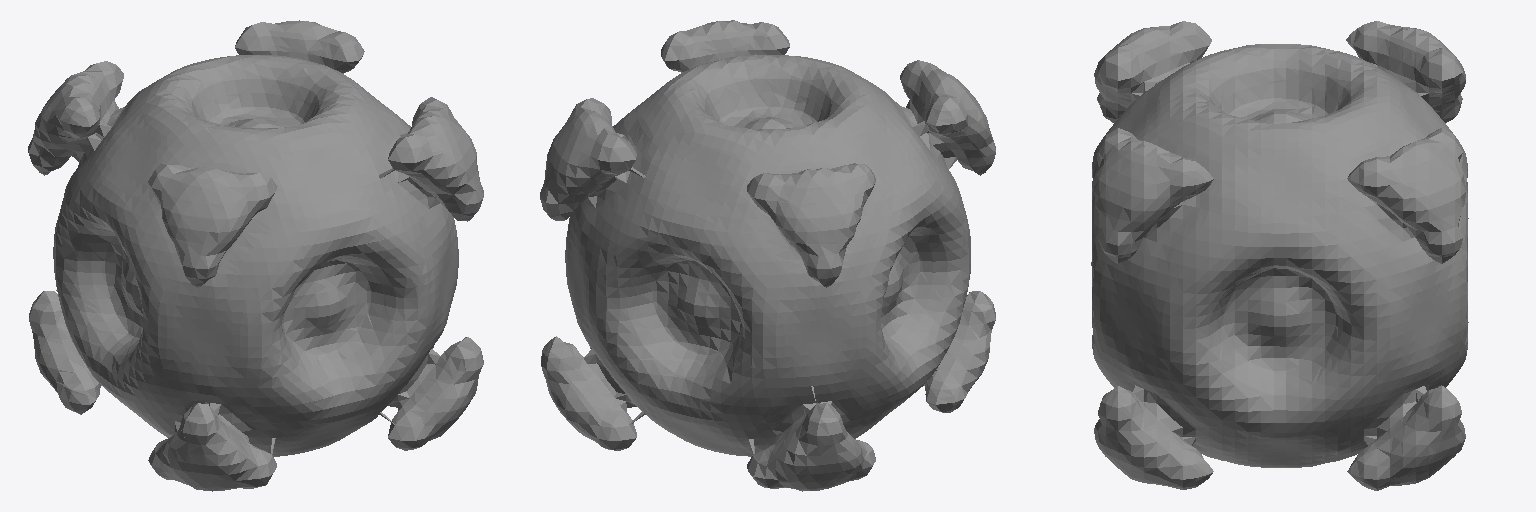
URDF robot description (cube.urdf):
<?xml version="0.0" ?> 
<robot name="cube.urdf"> 
<link name="legobrick"> 
<contact> 
<lateral_friction value="5.0"/> 
<rolling_friction value="0.0"/> 
<contact_cfm value="0.0"/> 
<contact_erp value="1.0"/> 
</contact> 
<inertial> 
<origin rpy="0 0 0" xyz="0.0 0.0 0.0"/> 
<mass value=".01"/> 
<inertia ixx="1" ixy="0" ixz="0" iyy="1" iyz="0" izz="1"/> 
</inertial> 
<visual> 
<origin rpy="1.570796 0 0" xyz="-0.026040236735093487 0.026007056703718345 -0.026015421059330558"/> 
<geometry> 
<mesh filename="C18_2.obj" scale="0.0006996007478225285 0.0006996007478225285 0.0006996007478225285"/> 
</geometry> 
<material name="yellow"> 
<color rgba="0.6 0.6 0.6 1"/> 
</material> 
</visual> 
<collision> 
<origin rpy="1.570796 0 0" xyz="-0.026040236735093487 0.026007056703718345 -0.026015421059330558"/> 
<geometry> 
<mesh filename="C18_2.obj" scale="0.0006996007478225285 0.0006996007478225285 0.0006996007478225285"/> 
</geometry> 
</collision> 
</link> 
</robot>

--- Facts derived from the render (not from the file) ---
Views: 3 orthographic renders of the robot side by side, from view 1: azimuth 30°, elevation 25°; view 2: azimuth 150°, elevation 25°; view 3: azimuth 270°, elevation 25°.
Robot: cube.urdf — 1 links, 0 joints (none); root link legobrick; default pose: every joint at zero.
Visible links, largest first — view 1: legobrick; view 2: legobrick; view 3: legobrick.
Link boxes in pixels (left/top/right/bottom): legobrick: left=28, top=20, right=483, bottom=491; legobrick: left=540, top=20, right=995, bottom=491; legobrick: left=1091, top=21, right=1468, bottom=490.
Bounding box of the posed robot: 0.056 × 0.056 × 0.056 m (x, y, z).
Meshes: 1 distinct files referenced, 1 mesh visuals loaded (1 OBJ).
